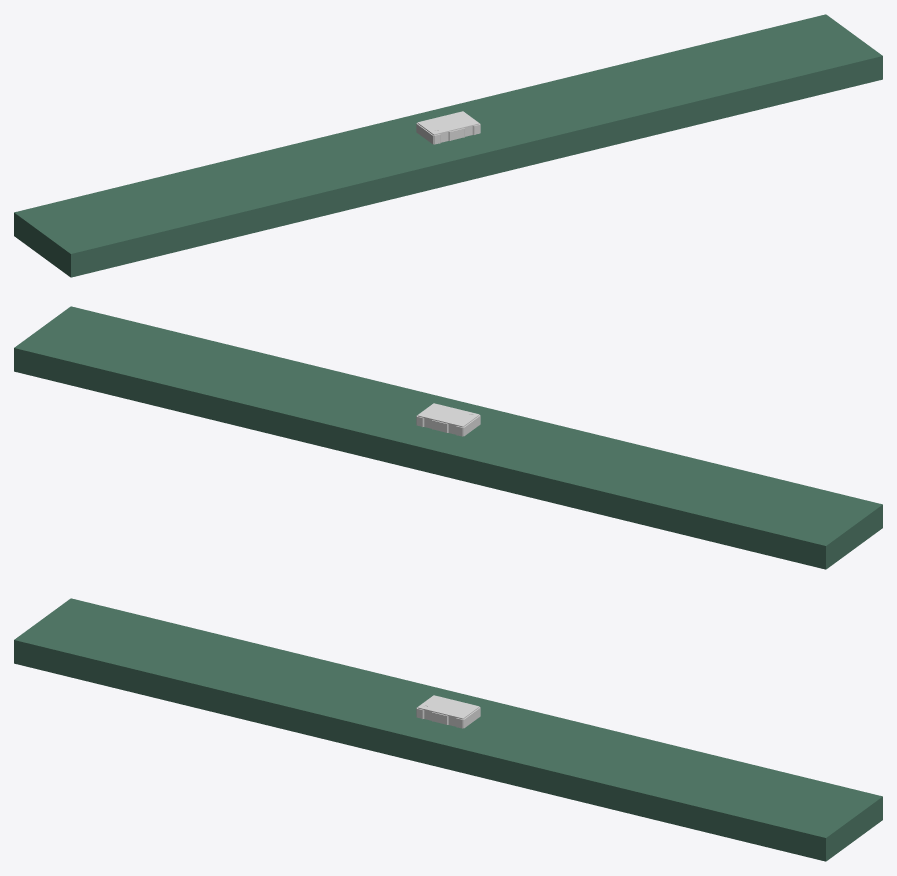
The model's file is freeeeg8-alpha_Oscillator_SMD_EuroQuartz_XO32-4Pin_3,2x2,5mm_RotB_HandSoldering.glb.
3 renders of one model, top to bottom at view 1: azimuth 30°, elevation 25°; view 2: azimuth 150°, elevation 25°; view 3: azimuth 330°, elevation 25°, orthographic.
Visible parts, largest first — view 1: =>[0:1:1:3], REF**; view 2: =>[0:1:1:3], REF**; view 3: =>[0:1:1:3], REF**.
Boxes of the visible parts, left/top/right/bottom form: =>[0:1:1:3]: left=14, top=14, right=882, bottom=277; REF**: left=416, top=111, right=480, bottom=144; =>[0:1:1:3]: left=14, top=306, right=882, bottom=569; REF**: left=416, top=403, right=480, bottom=436; =>[0:1:1:3]: left=14, top=598, right=882, bottom=861; REF**: left=416, top=695, right=480, bottom=728.
Size of the model in its own units: 0.0543 by 0.00223 by 0.0066.
